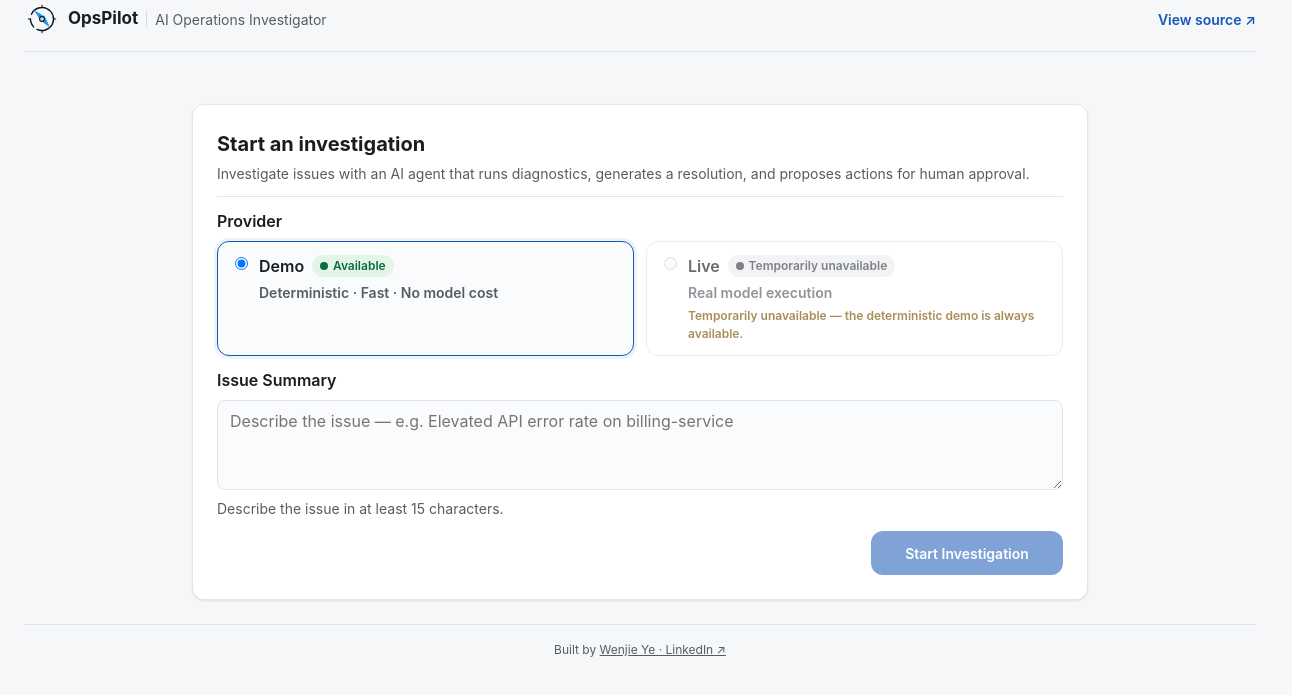
App approval workflow › a 201 approve response shows the recorded notice and a terminal, form-free APPROVED panel
Type "Approval demo issue" into the text box labelled "Issue Summary" at (640, 445), box top-left (217, 400), bottom-right (1063, 490)
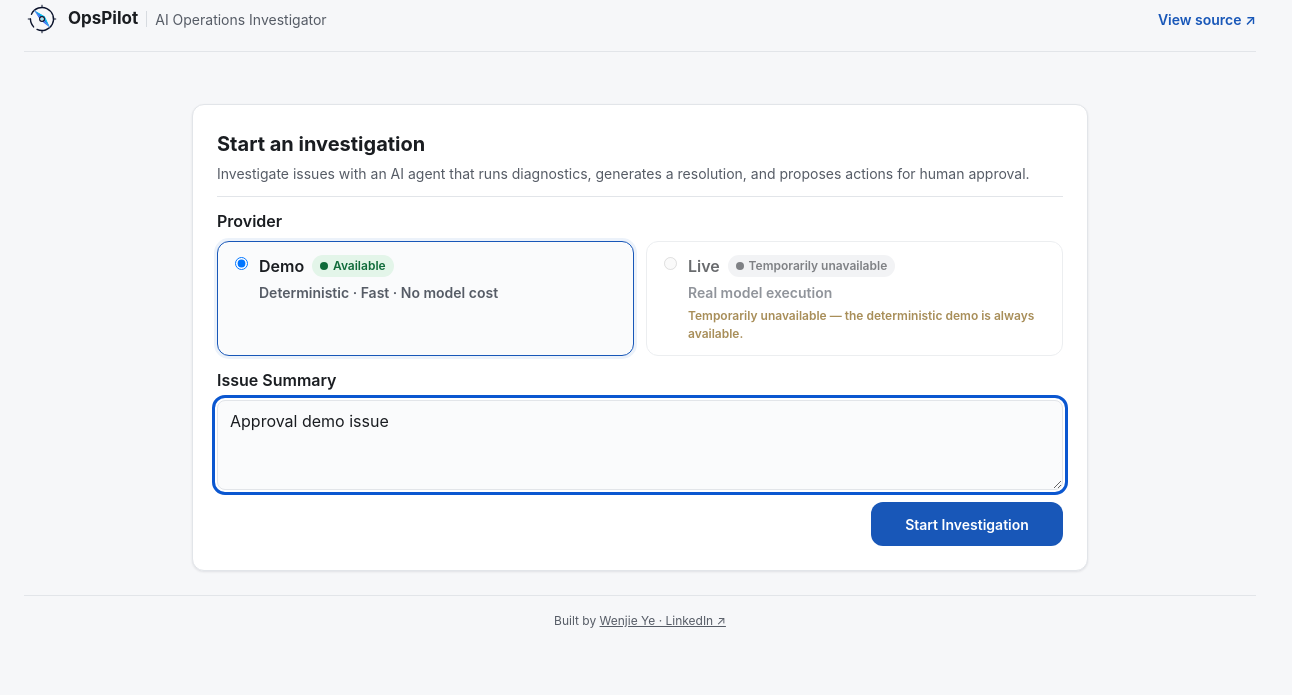
Click the button "Start Investigation" at (967, 524), box top-left (871, 502), bottom-right (1063, 546)
(page scrolled)
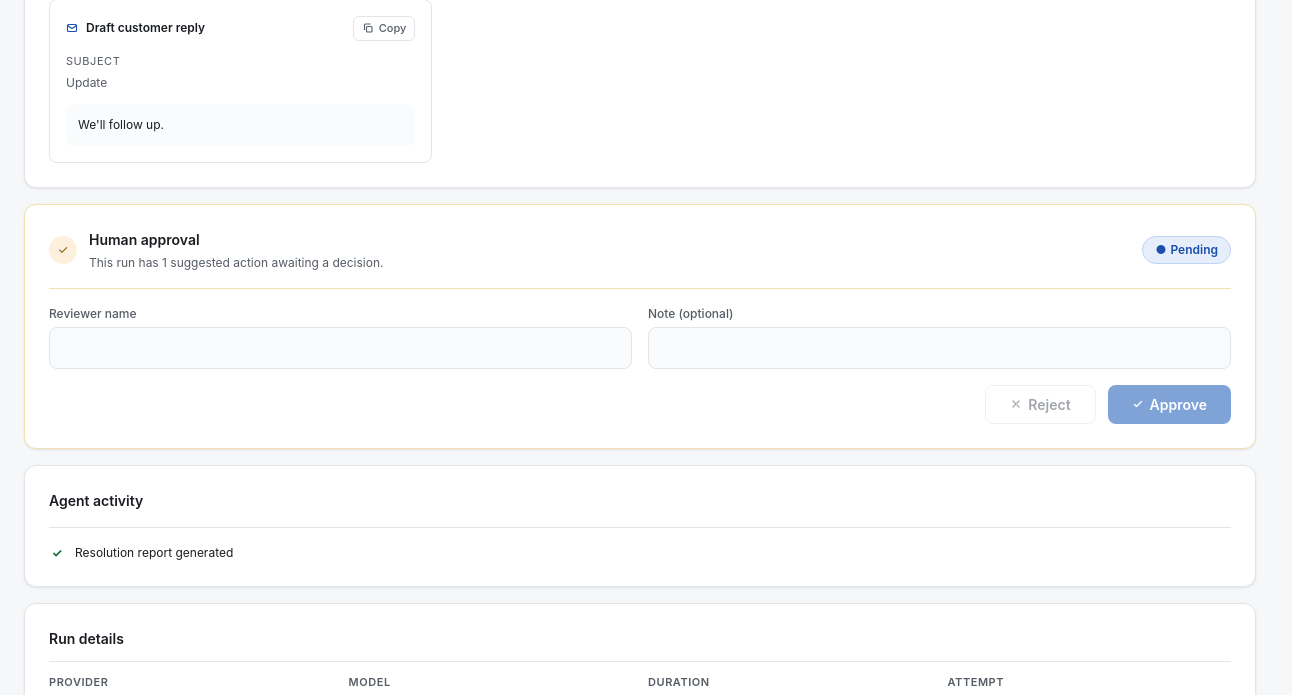
expect the text "Pending" is shown: met, box top-left (1170, 242), bottom-right (1218, 257)
Type "Jacky" into the field labelled "Reviewer name" at (340, 348), box top-left (49, 327), bottom-right (632, 369)
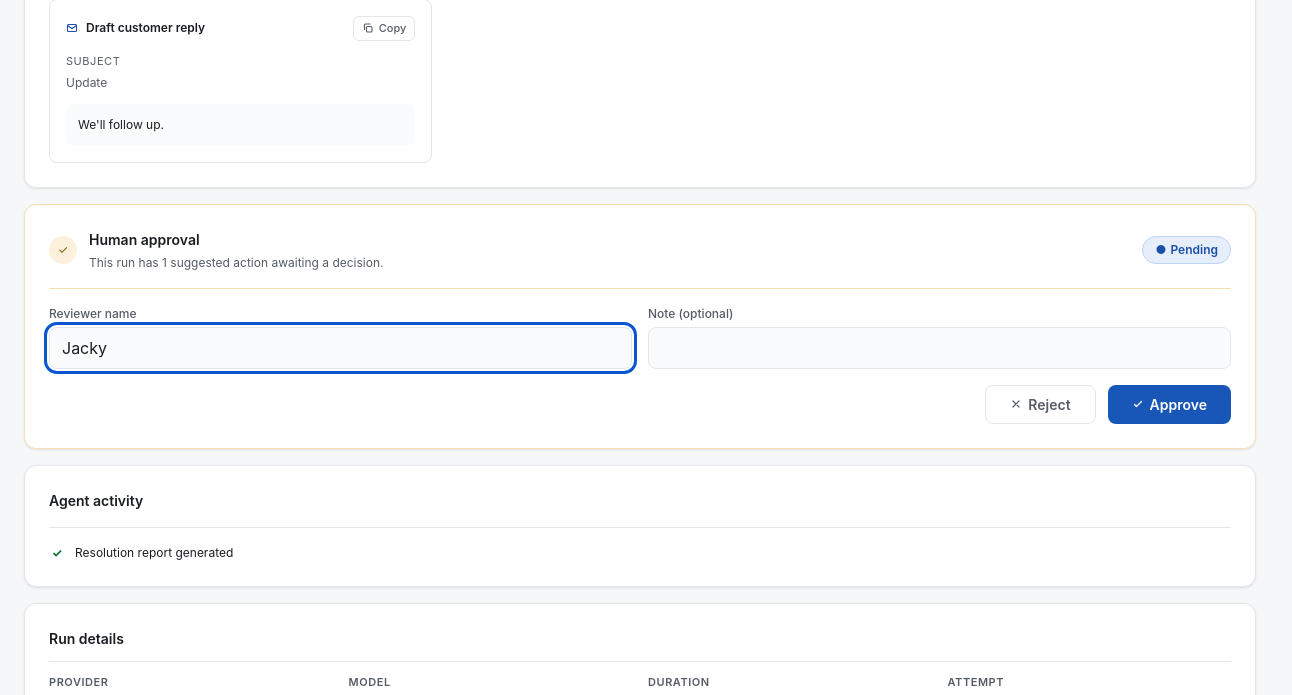
Click the button "Approve" at (1169, 404), box top-left (1108, 385), bottom-right (1231, 424)
(page scrolled)
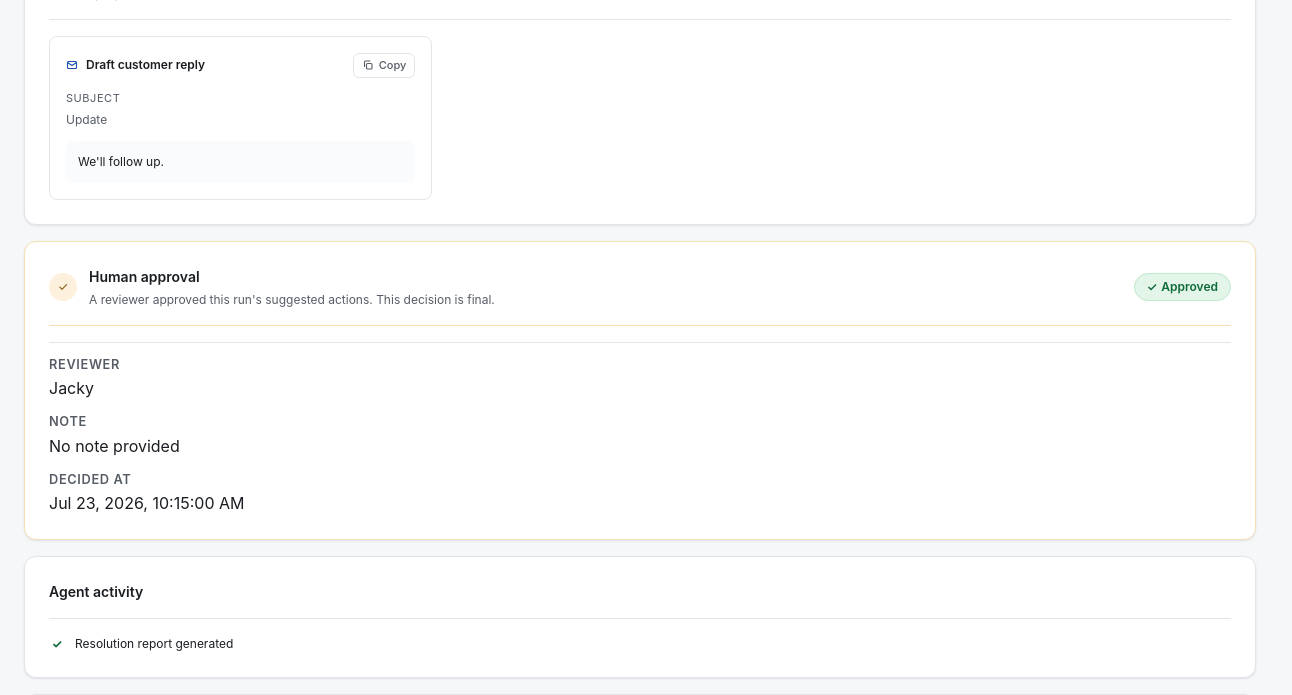
expect the text "Approved" is shown: met, box top-left (1161, 279), bottom-right (1218, 294)
expect the label labelled "Reviewer name" is gone: met
